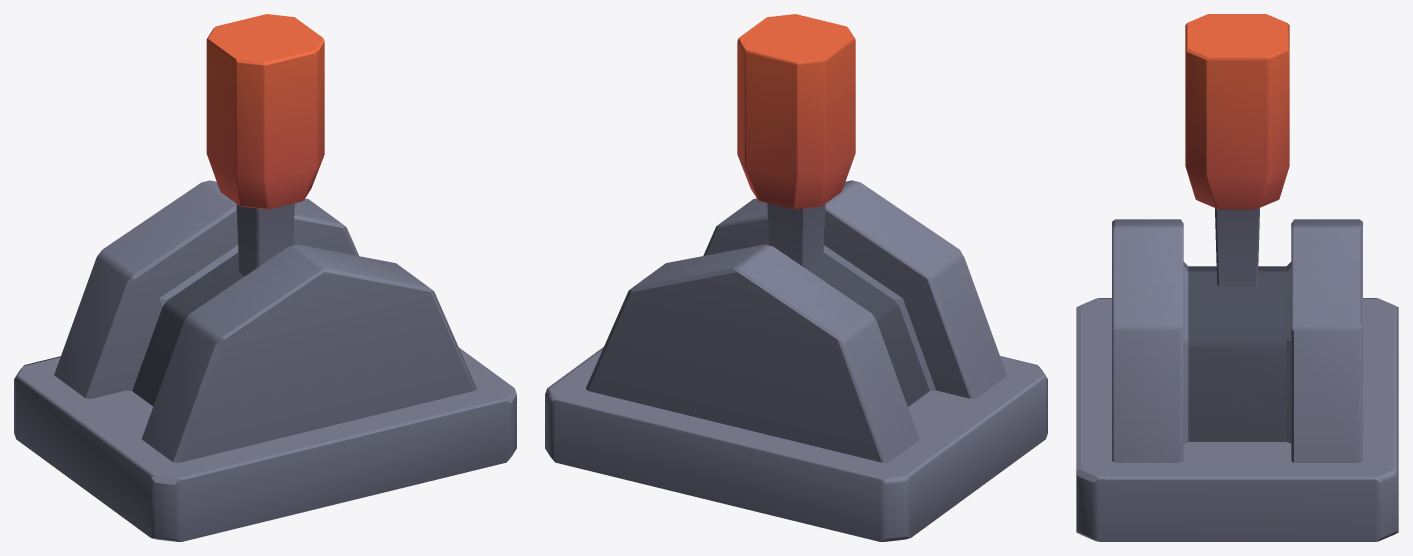
File: kenney-platformer__lever.glb
The picture shows the model from 3 angles, left to right: view 1: azimuth 30°, elevation 25°; view 2: azimuth 150°, elevation 25°; view 3: azimuth 270°, elevation 25°; orthographic projection. The views are drawn at different scales.
Visible parts, largest first — view 1: lever, handle; view 2: lever, handle; view 3: lever, handle.
Boxes of the visible parts, left/top/right/bottom form: lever: left=14, top=180, right=516, bottom=541; handle: left=206, top=14, right=324, bottom=276; lever: left=545, top=180, right=1047, bottom=541; handle: left=737, top=14, right=855, bottom=276; lever: left=1076, top=219, right=1398, bottom=541; handle: left=1185, top=14, right=1289, bottom=286.
Bounding box in the file's own units: 0.6 × 0.6418 × 0.45.
Materials: 1 (1 with a texture image).
